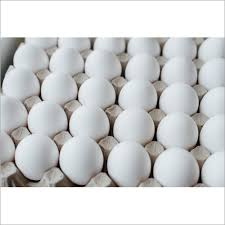eggs: (16, 126, 59, 175), (108, 141, 144, 187), (115, 107, 163, 140), (156, 148, 199, 184), (31, 93, 66, 136), (71, 99, 109, 138), (5, 61, 41, 102), (61, 140, 97, 177), (160, 113, 199, 147), (160, 56, 200, 88), (84, 45, 121, 76), (123, 80, 159, 110), (43, 74, 76, 105), (130, 52, 163, 82), (77, 78, 115, 104), (164, 86, 202, 111), (3, 96, 29, 132), (204, 153, 225, 197), (11, 45, 46, 71), (165, 37, 202, 60), (204, 116, 225, 150), (51, 46, 78, 72), (206, 60, 225, 92), (206, 88, 225, 114), (206, 39, 225, 63)
